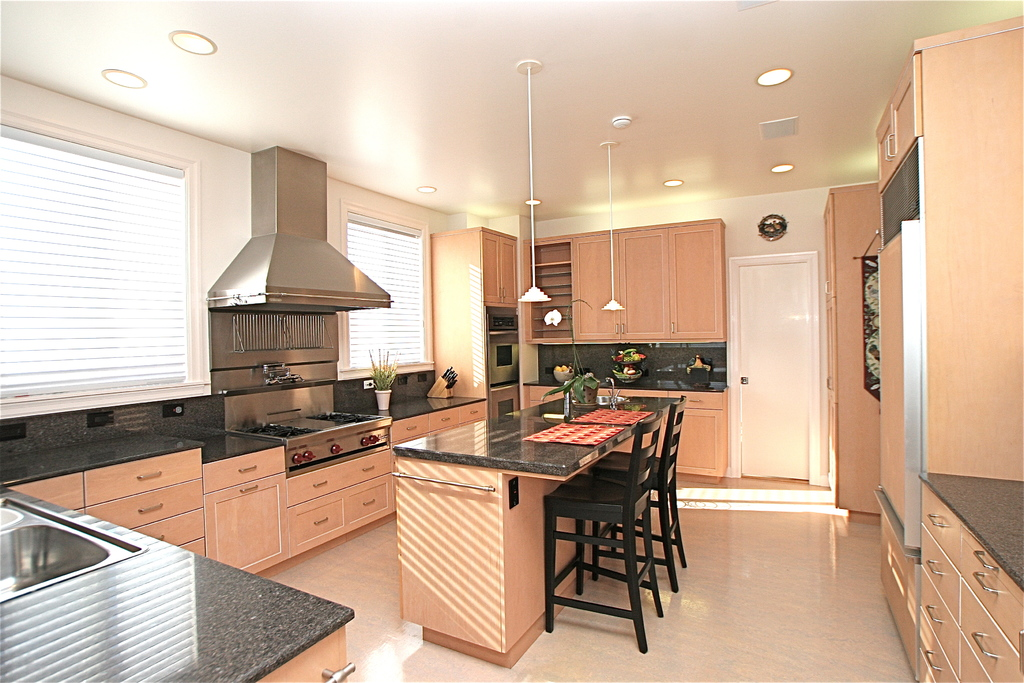Cabinetry: (17, 445, 211, 558), (915, 481, 1023, 682), (573, 215, 724, 339), (527, 383, 726, 475), (282, 445, 397, 550), (204, 444, 289, 584), (390, 400, 489, 516), (819, 188, 849, 511), (875, 55, 919, 190), (480, 227, 525, 309)
